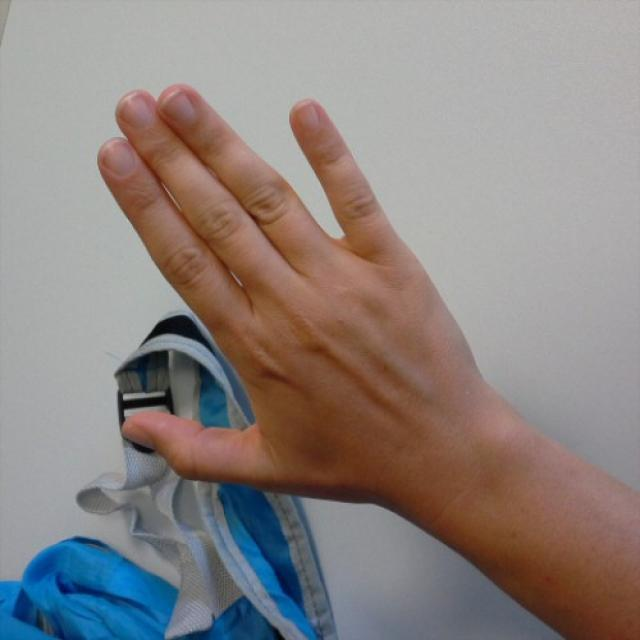paper: (97, 87, 454, 506)
